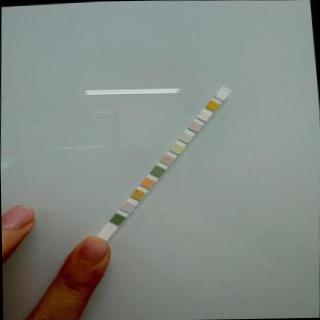mark: (170, 142, 182, 154), (112, 213, 124, 224), (123, 202, 134, 213), (142, 178, 154, 188), (189, 121, 201, 131), (217, 90, 228, 100), (163, 154, 173, 164), (132, 190, 144, 198), (179, 133, 191, 141), (198, 110, 208, 118), (152, 167, 162, 174), (208, 100, 216, 108)
